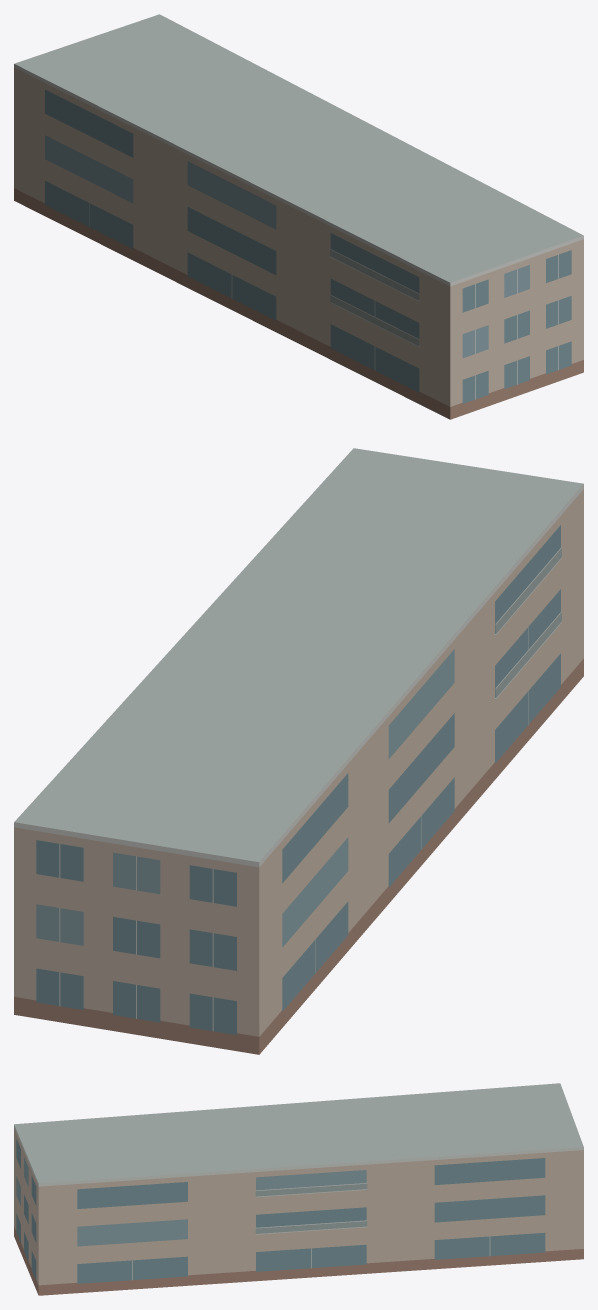
The model's file is survey-upis-32717831.glb.
The picture shows the model from 3 angles, top to bottom: view 1: azimuth 30°, elevation 25°; view 2: azimuth 150°, elevation 25°; view 3: azimuth 270°, elevation 25°; orthographic projection. The views are drawn at different scales.
Parts seen in each view (by area): view 1: survey-upis-32717831.tmp; view 2: survey-upis-32717831.tmp; view 3: survey-upis-32717831.tmp.
Boxes of the visible parts, box(x1,y1,x2,y2) form: survey-upis-32717831.tmp: box(14, 14, 583, 419); survey-upis-32717831.tmp: box(14, 448, 583, 1054); survey-upis-32717831.tmp: box(14, 1083, 583, 1295).
Size of the model in its own units: 17.59 by 9.15 by 42.15.
